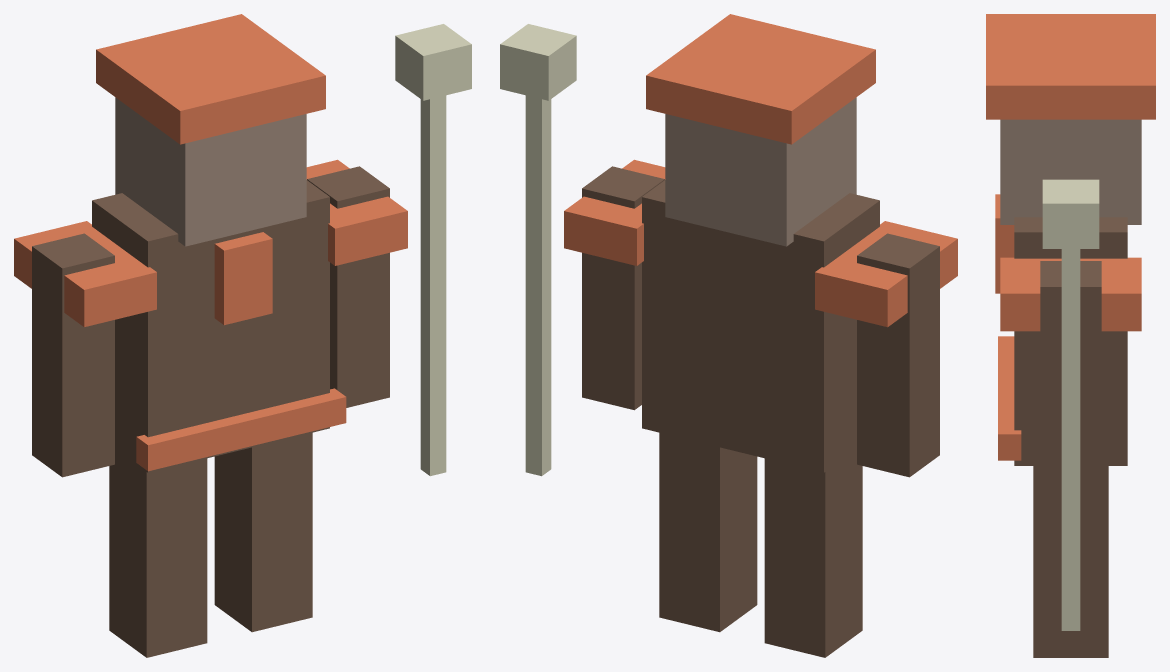
The model's file is 15_tovin_voidrill_herald_under_spark.glb.
3 views of the same model, side by side, from view 1: azimuth 30°, elevation 25°; view 2: azimuth 150°, elevation 25°; view 3: azimuth 270°, elevation 25° (orthographic).
Visible parts, largest first — view 1: Tovin Voidrill, Herald under Spark; view 2: Tovin Voidrill, Herald under Spark; view 3: Tovin Voidrill, Herald under Spark.
Boxes of the visible parts, left/top/right/bottom form: Tovin Voidrill, Herald under Spark: left=14, top=14, right=471, bottom=657; Tovin Voidrill, Herald under Spark: left=500, top=14, right=957, bottom=657; Tovin Voidrill, Herald under Spark: left=986, top=14, right=1155, bottom=657.
Size of the model in its own units: 1.09 by 1.43 by 0.3876.
